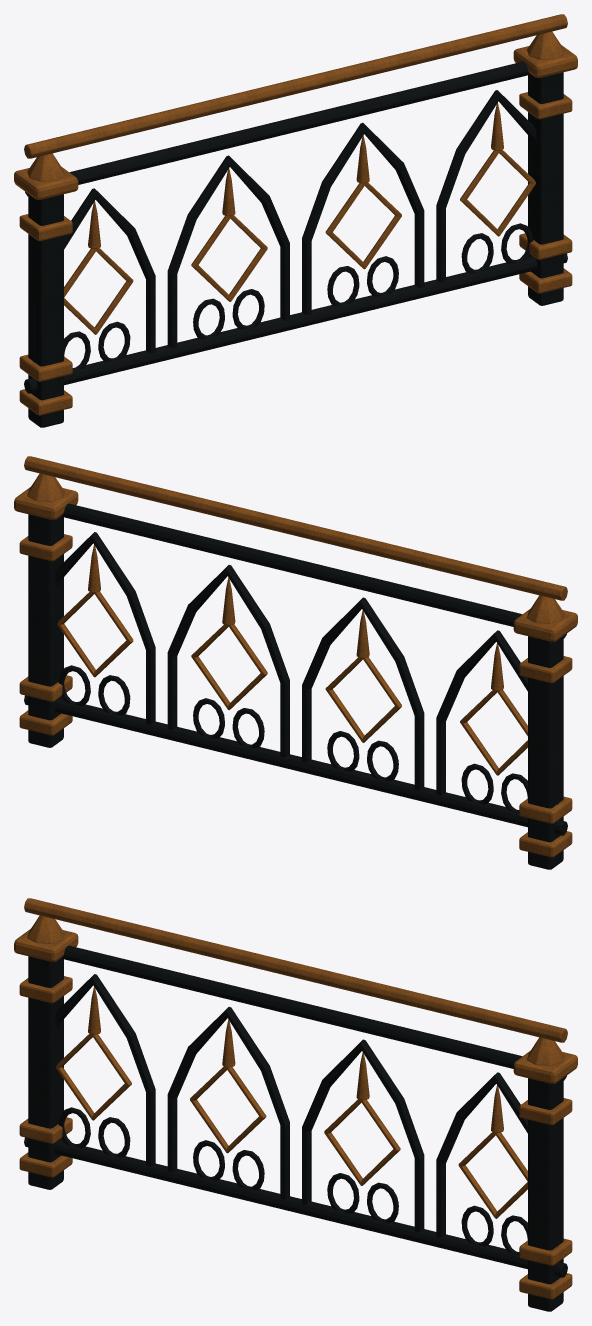
Rendered from railing_iron.fbx.
3 renders of one model, top to bottom at view 1: azimuth 30°, elevation 25°; view 2: azimuth 150°, elevation 25°; view 3: azimuth 330°, elevation 25°, orthographic.
Visible parts, largest first — view 1: railing_iron_ironwork, railing_iron_structure, railing_iron_posts; view 2: railing_iron_ironwork, railing_iron_structure, railing_iron_posts; view 3: railing_iron_ironwork, railing_iron_structure, railing_iron_posts.
Part boxes in pixels (x1=…): railing_iron_ironwork: x1=24, y1=14, x2=567, y2=393; railing_iron_structure: x1=19, y1=72, x2=572, y2=427; railing_iron_posts: x1=14, y1=45, x2=577, y2=199; railing_iron_ironwork: x1=24, y1=456, x2=567, y2=835; railing_iron_structure: x1=19, y1=514, x2=572, y2=869; railing_iron_posts: x1=14, y1=487, x2=577, y2=641; railing_iron_ironwork: x1=24, y1=898, x2=567, y2=1277; railing_iron_structure: x1=19, y1=956, x2=572, y2=1311; railing_iron_posts: x1=14, y1=929, x2=577, y2=1083.
Bounding box in the file's own units: 202 × 99.91 × 16.
2 materials, 2 textured.
